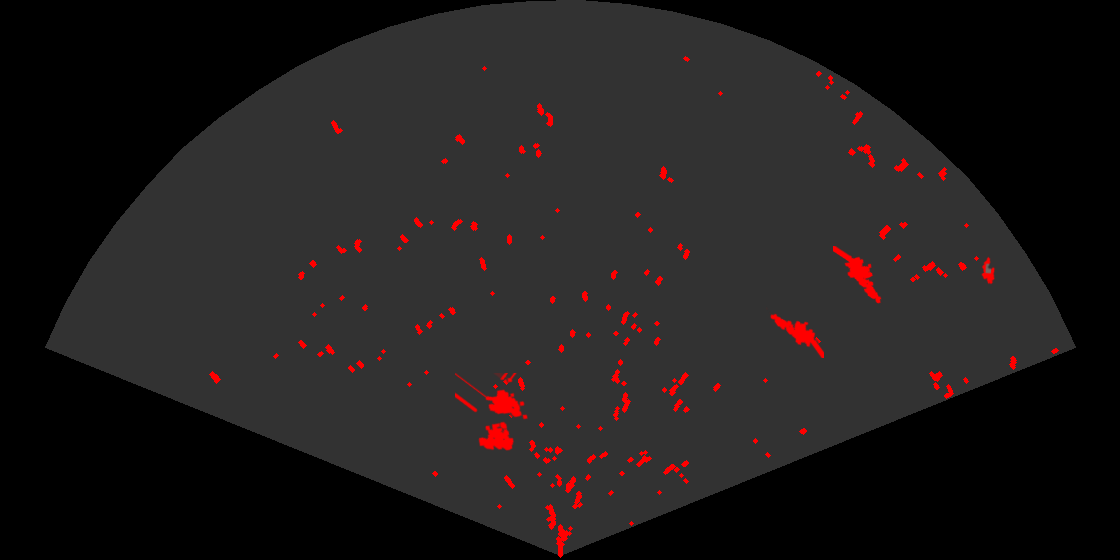AUV: (980, 255, 997, 286)
cage: (455, 373, 529, 452)
frogman: (766, 306, 824, 358), (833, 246, 883, 305)
